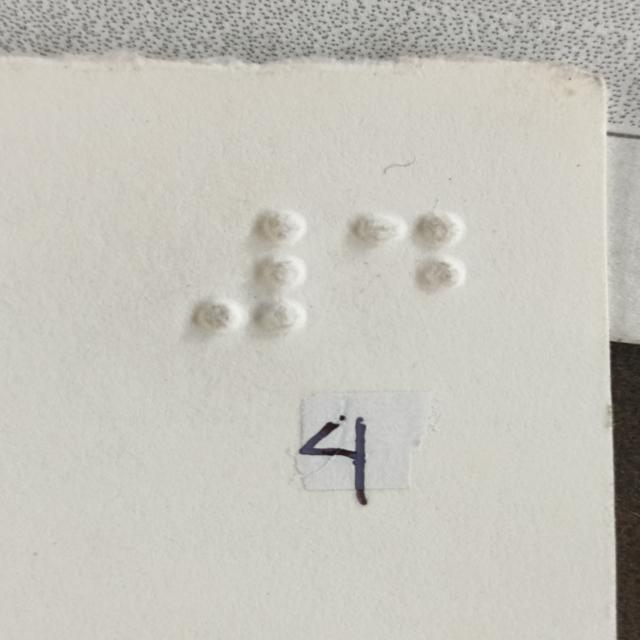digit_4: (355, 207, 463, 333)
number_sign: (197, 210, 301, 335)
